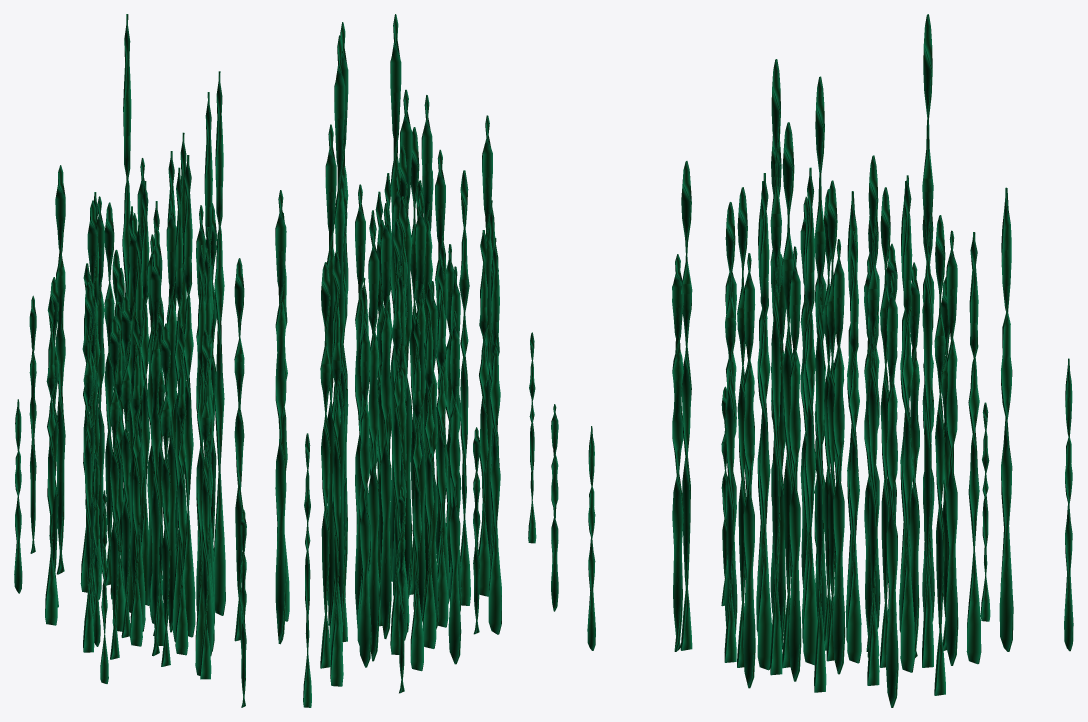
Rendered from seaweed.obj.
3 views of the same model, side by side, from view 1: azimuth 30°, elevation 25°; view 2: azimuth 150°, elevation 25°; view 3: azimuth 270°, elevation 25° (orthographic). The views are drawn at different scales.
Parts seen in each view (by area): view 1: Box025, Box017, Box005, Box019, Box041, Box009, Box035, Box021, Box020, Box002, Box011, Box045 (+37 smaller); view 2: Box044, Box033, Box042, Box043, Box021, Box031, Box040, Box041, Box005, Box046, Box034, Box017 (+36 smaller); view 3: Box043, Box025, Box016, Box041, Box009, Box036, Box037, Box045, Box018, Box027, Box010, Box019 (+32 smaller).
Boxes of the visible parts, left/top/right/bottom form: Box025: left=213, top=71, right=225, bottom=615; Box017: left=183, top=155, right=195, bottom=637; Box005: left=150, top=246, right=160, bottom=656; Box019: left=166, top=192, right=176, bottom=632; Box041: left=55, top=165, right=65, bottom=574; Box009: left=234, top=258, right=244, bottom=641; Box035: left=140, top=181, right=149, bottom=605; Box021: left=83, top=282, right=94, bottom=652; Box020: left=121, top=294, right=131, bottom=637; Box002: left=161, top=323, right=170, bottom=666; Box011: left=110, top=316, right=119, bottom=659; Box045: left=104, top=202, right=114, bottom=585; Box044: left=275, top=190, right=286, bottom=644; Box033: left=380, top=203, right=391, bottom=638; Box042: left=368, top=225, right=379, bottom=661; Box043: left=334, top=35, right=345, bottom=631; Box021: left=488, top=237, right=501, bottom=634; Box031: left=448, top=311, right=461, bottom=664; Box040: left=359, top=314, right=371, bottom=667; Box041: left=330, top=251, right=343, bottom=686; Box005: left=459, top=170, right=470, bottom=605; Box046: left=320, top=262, right=330, bottom=668; Box034: left=325, top=124, right=336, bottom=625; Box017: left=400, top=89, right=412, bottom=598; Box043: left=922, top=14, right=933, bottom=667; Box025: left=814, top=76, right=826, bottom=692; Box016: left=770, top=59, right=782, bottom=675; Box041: left=999, top=187, right=1013, bottom=651; Box009: left=743, top=253, right=755, bottom=688; Box036: left=886, top=272, right=898, bottom=707; Box037: left=900, top=175, right=914, bottom=672; Box045: left=945, top=230, right=958, bottom=665; Box018: left=788, top=246, right=801, bottom=681; Box027: left=832, top=239, right=845, bottom=674; Box010: left=757, top=173, right=771, bottom=670; Box019: left=803, top=167, right=817, bottom=665.
Size of the model in its own units: 9.73 by 28.21 by 19.03.
Materials: 1 (1 with a texture image).
